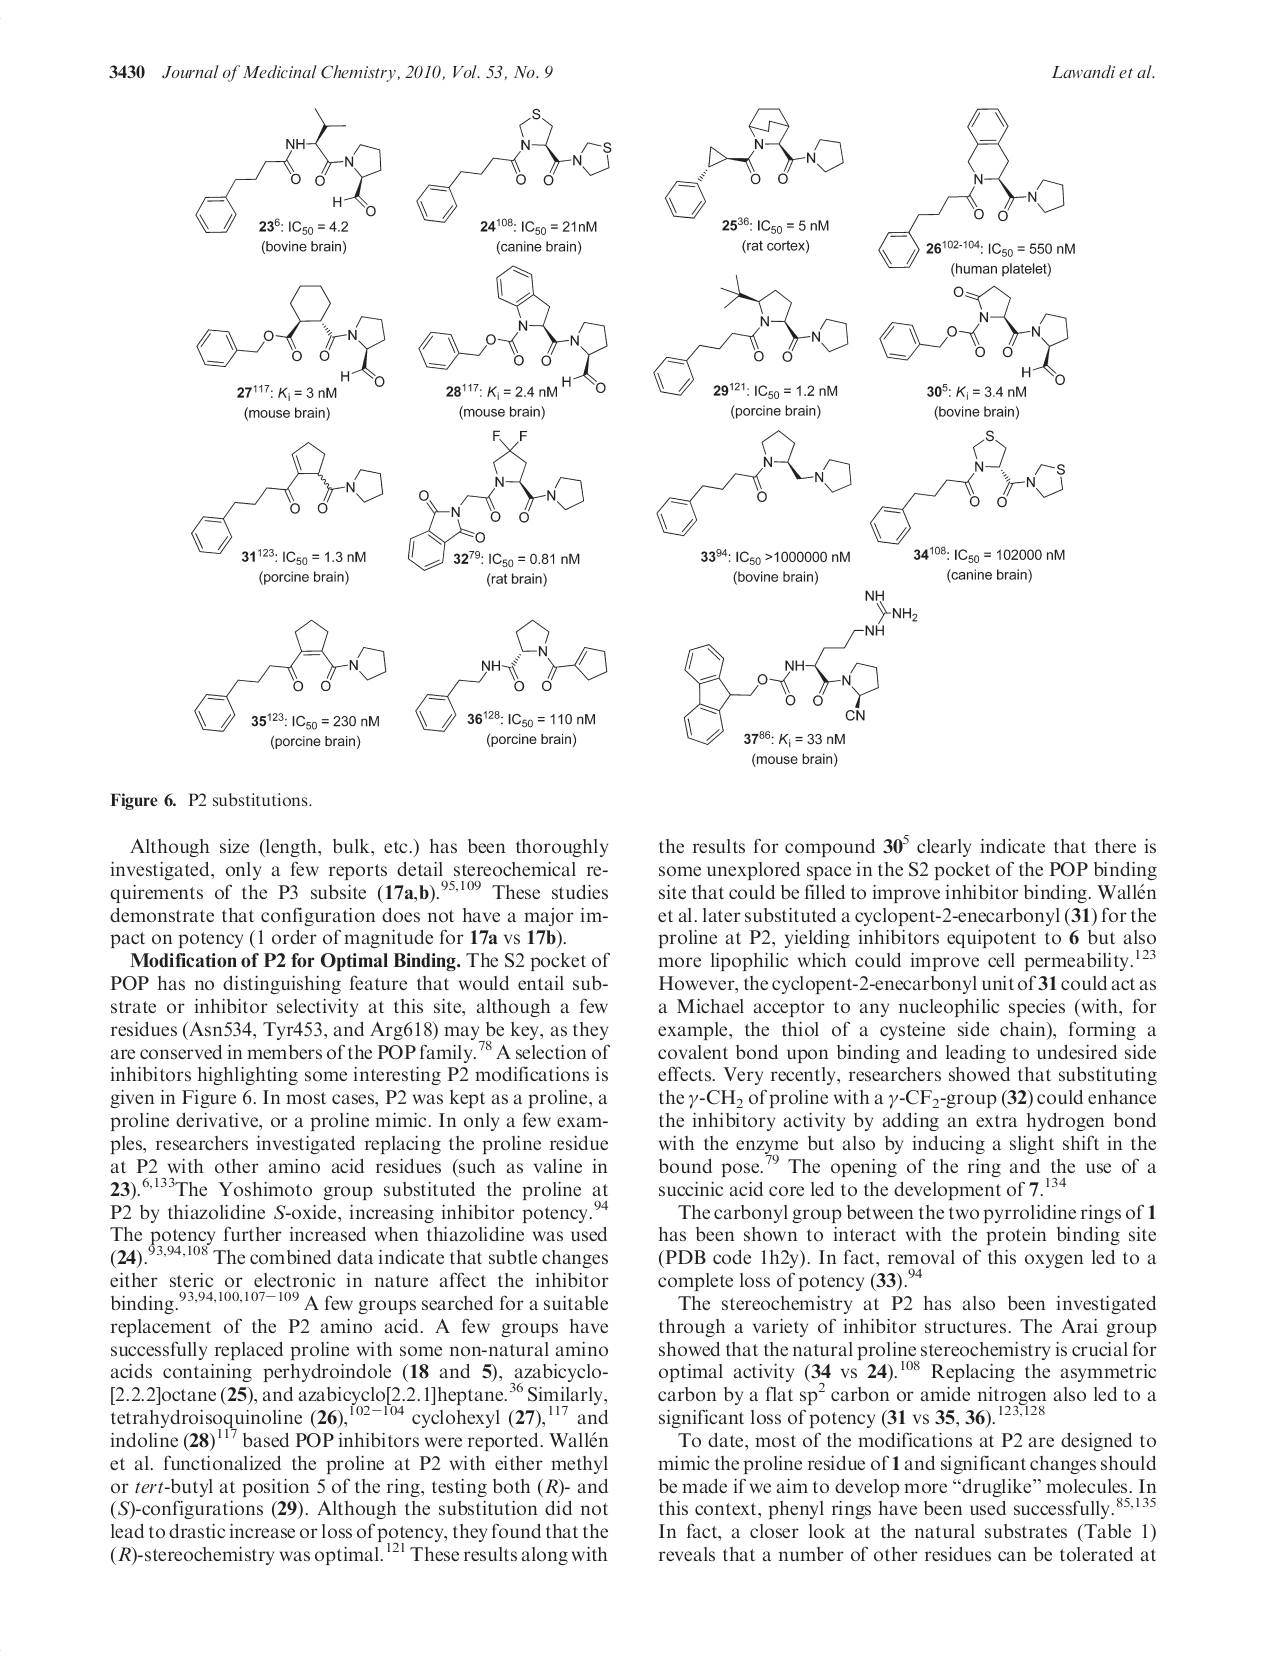exist_molecular: (681, 586, 919, 747), (876, 106, 1067, 270), (406, 430, 585, 573), (415, 265, 609, 394), (652, 273, 851, 398), (194, 106, 383, 235), (868, 426, 1068, 547), (414, 108, 613, 223), (191, 618, 388, 734), (190, 442, 386, 557), (414, 618, 609, 733), (656, 428, 852, 539), (664, 105, 846, 219), (195, 282, 386, 388), (876, 283, 1071, 387)
